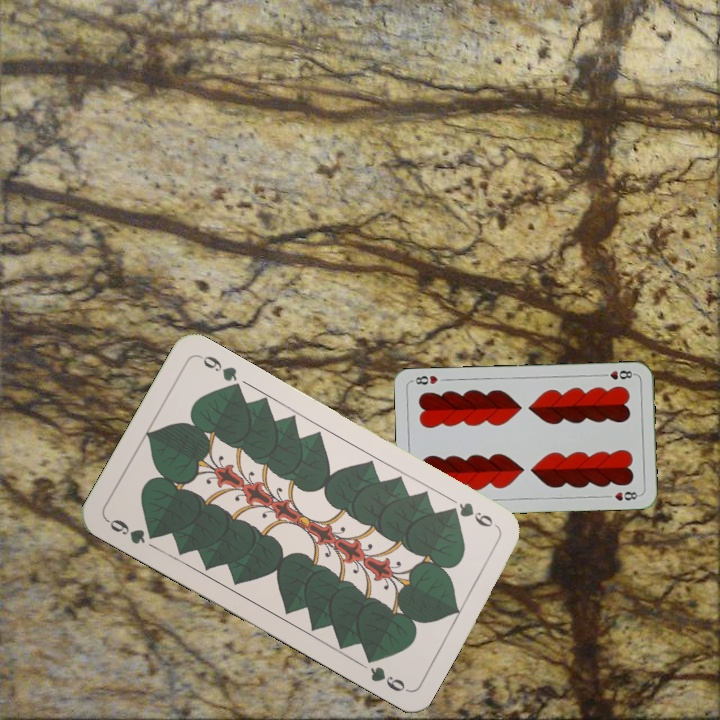G9: (102, 515, 161, 547), (443, 498, 496, 530)
H8: (597, 366, 638, 382)
